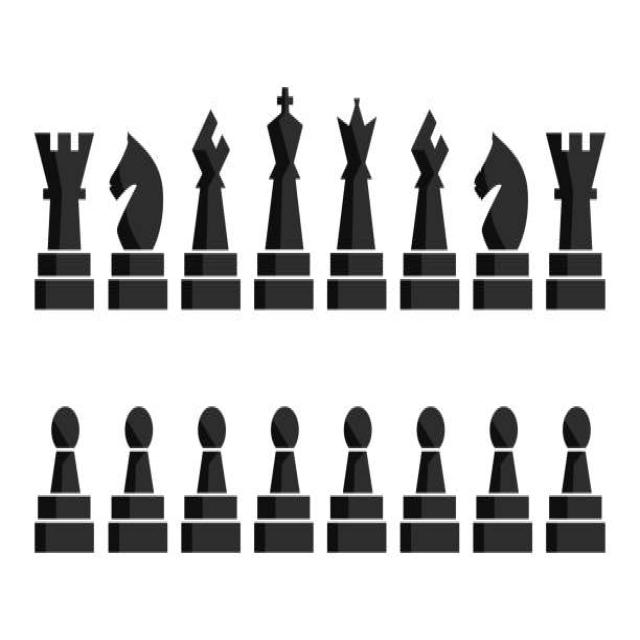black-bishop: (400, 108, 460, 311), (180, 109, 240, 310)
black-king: (254, 87, 314, 310)
black-knight: (472, 130, 532, 311), (108, 130, 168, 310)
black-pawn: (399, 406, 461, 553), (326, 406, 387, 554), (546, 406, 606, 553), (472, 406, 532, 553), (254, 406, 314, 553), (180, 406, 240, 553), (34, 406, 94, 553), (108, 406, 167, 553)
black-queen: (327, 97, 387, 311)
black-rook: (546, 132, 606, 311), (34, 132, 94, 310)
